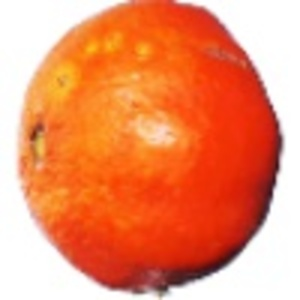tangerina: (15, 1, 285, 300)
